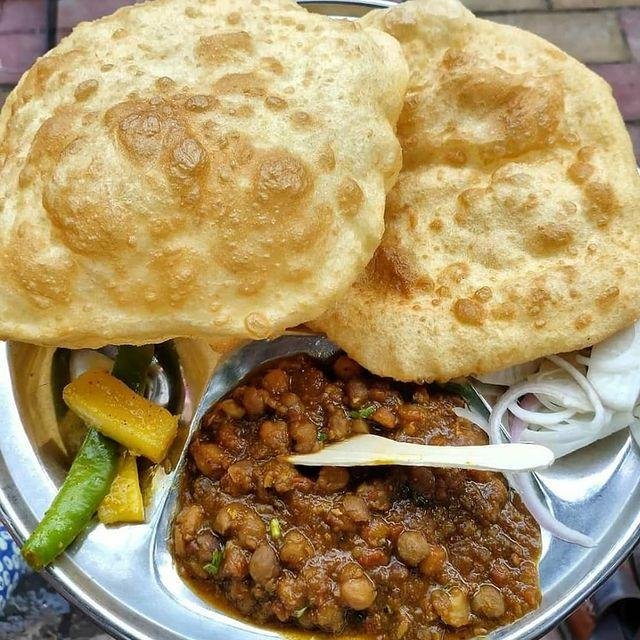Chole: (180, 384, 527, 640)
